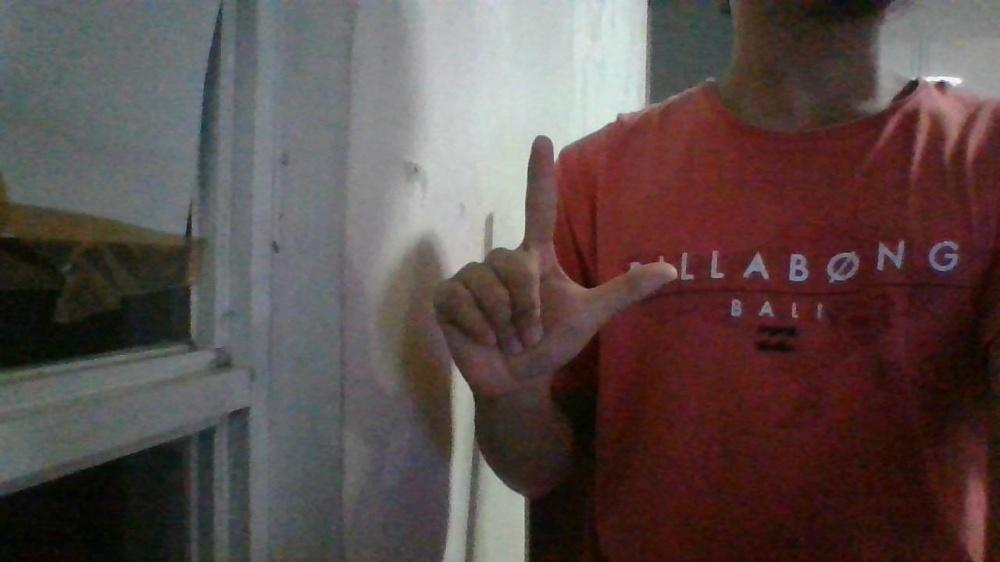l: (430, 134, 679, 405)
